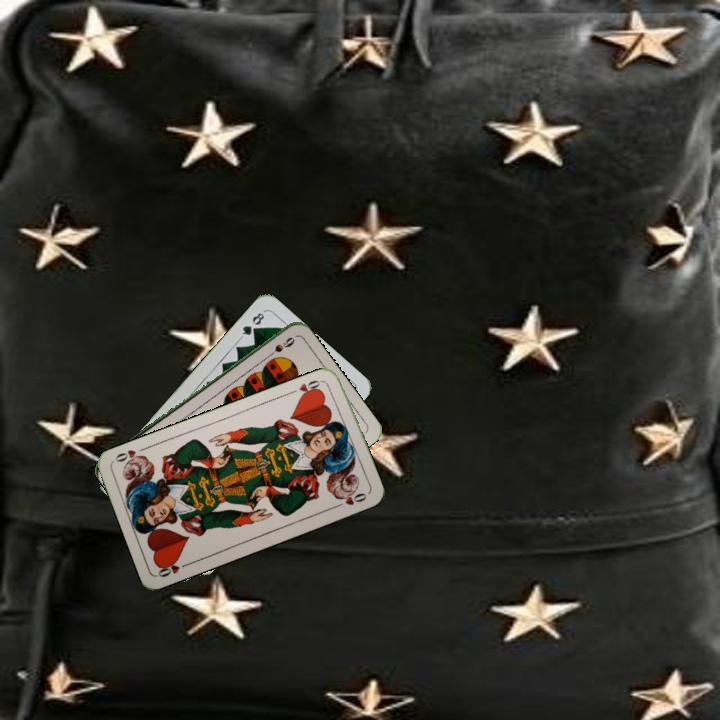G8: (237, 307, 267, 341)
HO: (287, 376, 326, 401), (154, 556, 194, 580)
S9: (262, 333, 298, 361)
